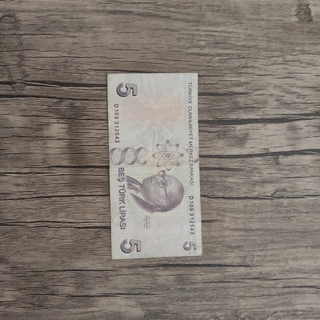5TLBack: (106, 71, 203, 260)
